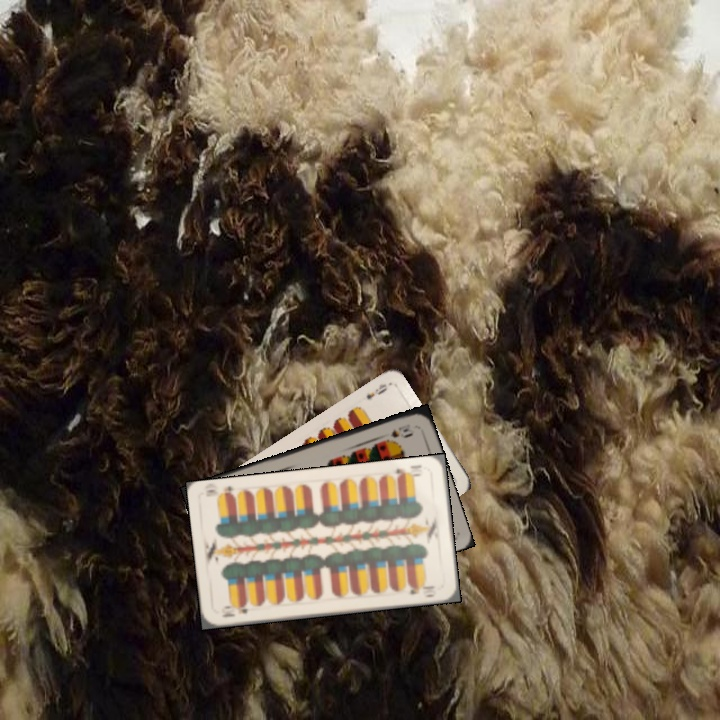E10: (217, 600, 252, 620), (392, 464, 424, 482)
E9: (362, 380, 390, 402)
S10: (386, 420, 413, 440)
